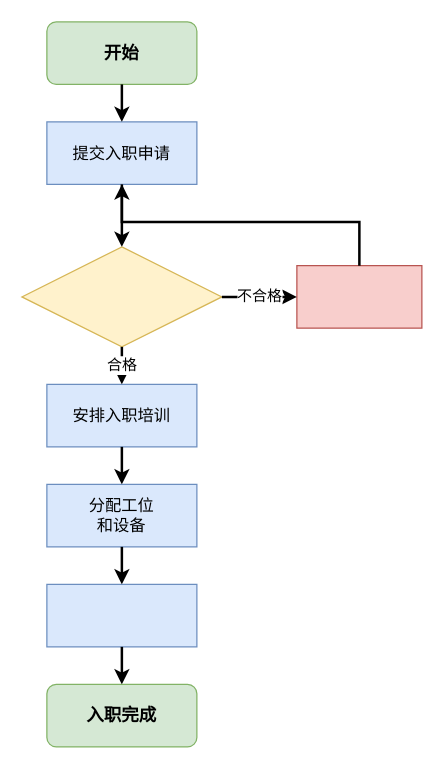
The diagram is 444 pixels wide and 769 high, and some of its shapes have lost their labels. The shapes that lost their labels are listed below. From the top down, each one's centre as x and y in pixels, then its label:
At (x=121, y=296): "HR审核资料".
At (x=359, y=296): "补充资料".
At (x=121, y=615): "开通系统 权限".
